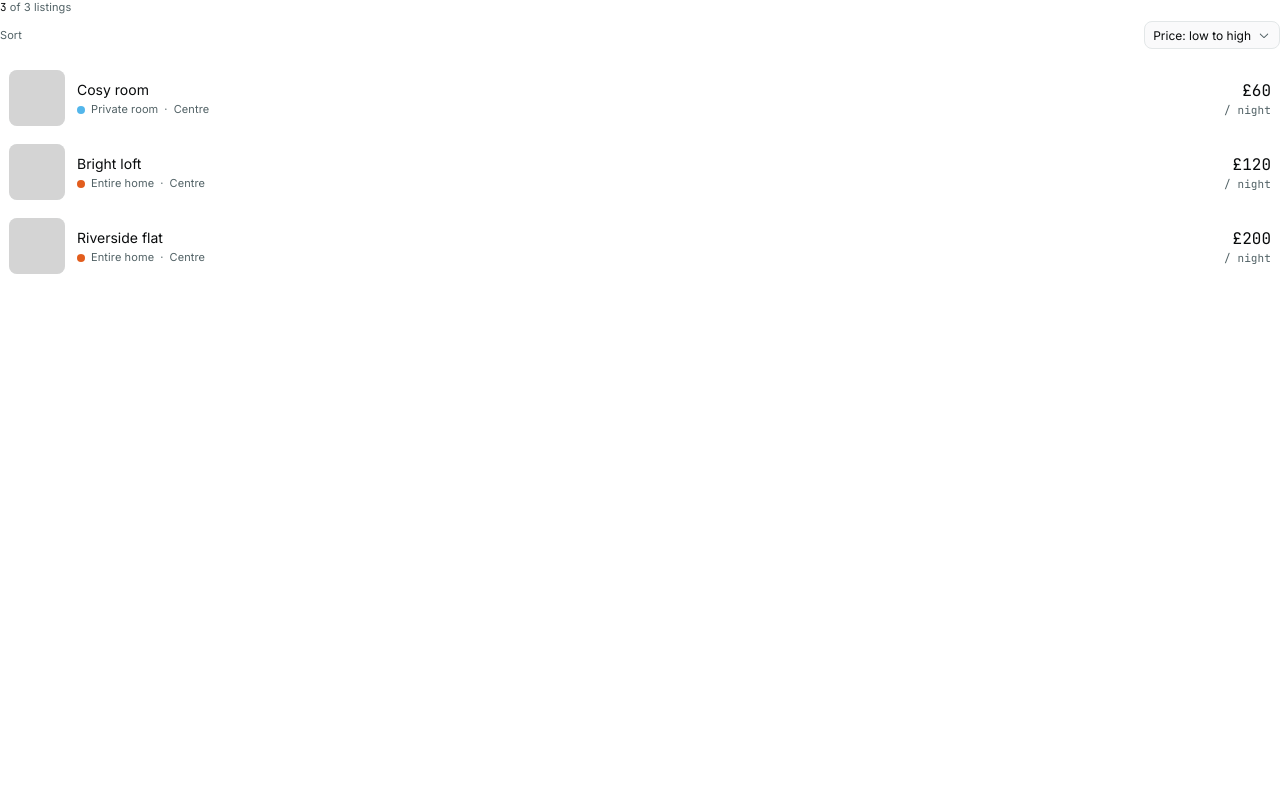
browse region › opens the detail drawer for Bo with host/reviews/provenance and never availability
Click the button "Cosy room Private room · Centre £60 / night": (37, 98) [0,61,1279,135]
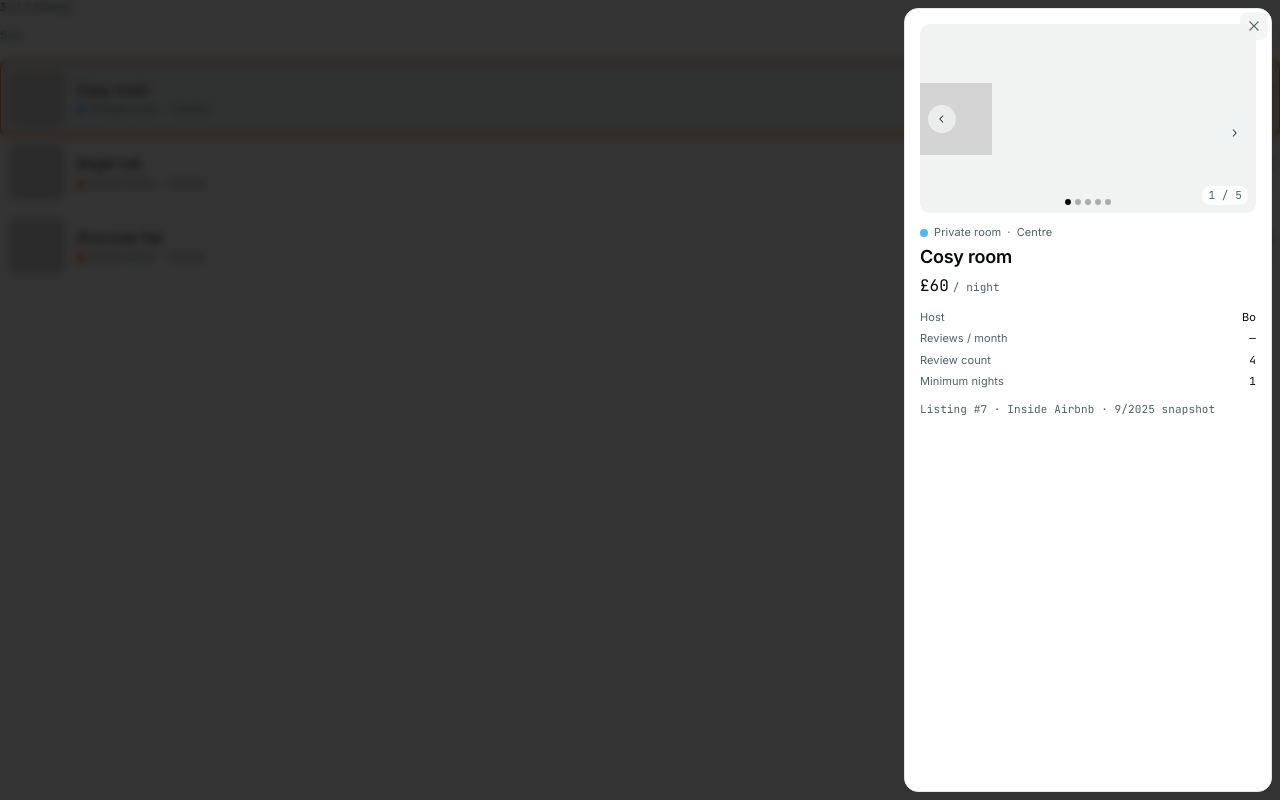
Check: the text "Bo" is shown, box [1242,310,1256,325]
Check: the text "Reviews / month" is shown, box [920,331,1008,347]
Check: the text "Review count" is shown, box [920,353,991,368]
